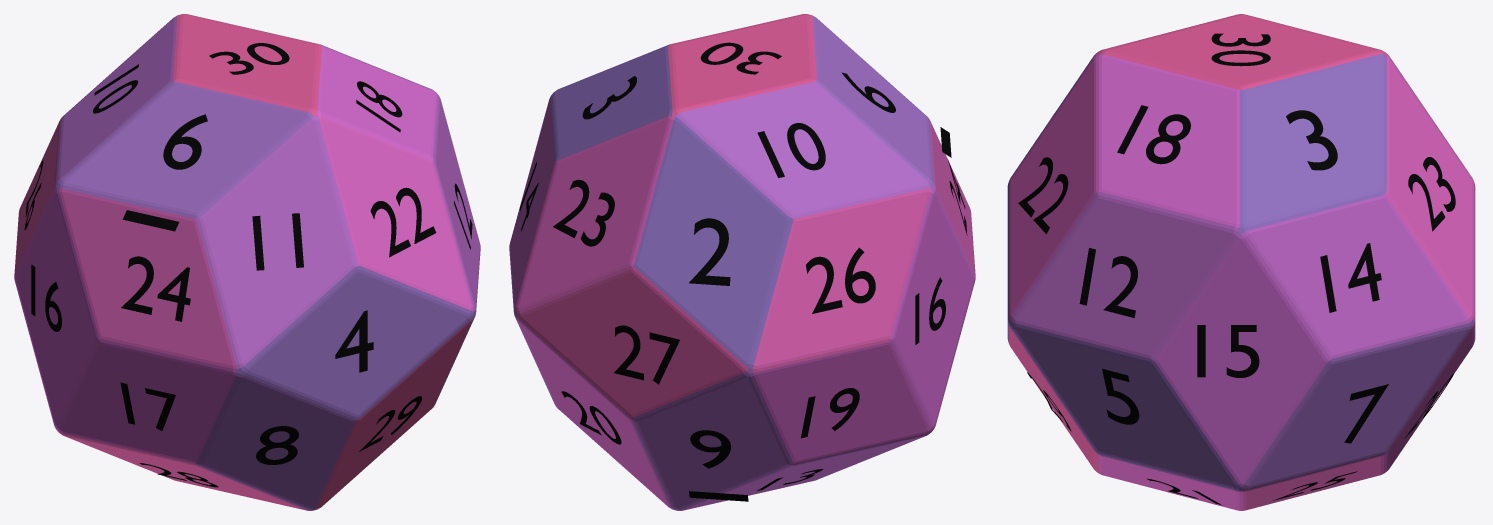
3 renders of one model, left to right at view 1: azimuth 30°, elevation 25°; view 2: azimuth 150°, elevation 25°; view 3: azimuth 270°, elevation 25°, orthographic. The views are drawn at different scales.
Visible parts, largest first — view 1: d30, d30_num; view 2: d30, d30_num; view 3: d30, d30_num.
Part boxes in pixels (bbox=[...]): d30: bbox=[14, 14, 480, 510]; d30_num: bbox=[24, 43, 472, 487]; d30: bbox=[509, 14, 975, 510]; d30_num: bbox=[520, 42, 967, 501]; d30: bbox=[1007, 14, 1475, 510]; d30_num: bbox=[1018, 33, 1455, 505].
Bounding box in the file's own units: 2.73 × 2.73 × 2.73.
